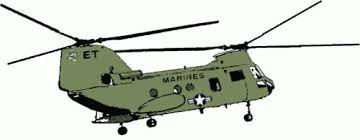chinook: (9, 10, 327, 134)
